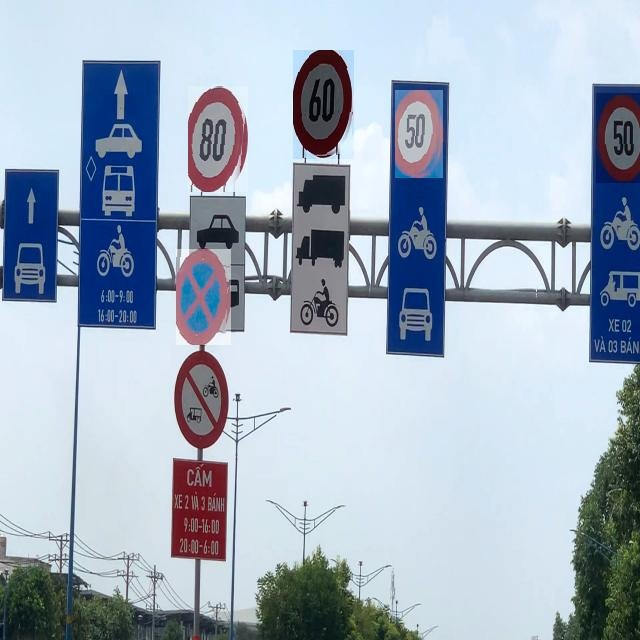bien_cam: (293, 50, 354, 159), (188, 86, 248, 192), (176, 249, 231, 345), (396, 90, 444, 178), (596, 93, 640, 183)
